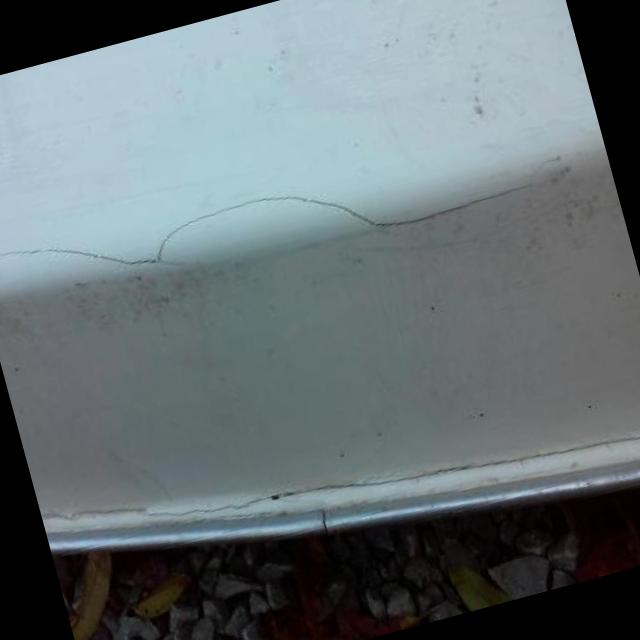crack: (40, 429, 640, 528), (0, 177, 541, 271)
